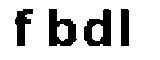b: (47, 6, 79, 49)
d: (84, 5, 112, 51)
f: (13, 8, 36, 48)
l: (121, 4, 137, 52)
